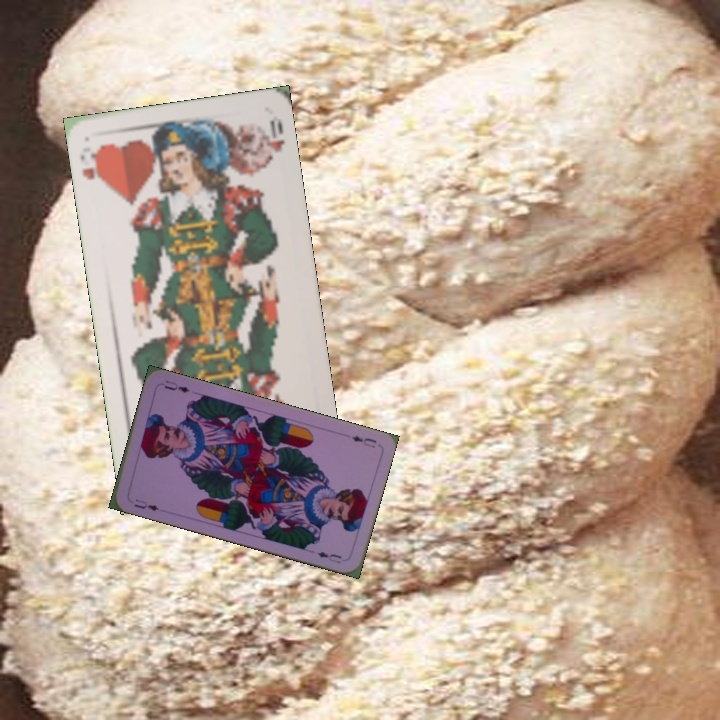EU: (348, 431, 379, 451), (130, 495, 162, 514)
HO: (76, 141, 106, 184)
